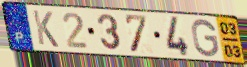2: (61, 11, 88, 50)
3: (96, 13, 122, 52)
4: (164, 15, 191, 58)
7: (124, 14, 150, 54)
G: (190, 18, 221, 58)
K: (31, 9, 61, 49)
